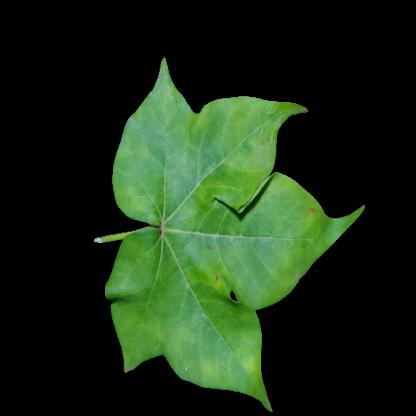curl_stage1: (166, 147, 225, 289), (123, 299, 199, 359), (199, 317, 258, 392), (122, 126, 160, 226), (241, 214, 299, 272), (220, 103, 266, 169), (121, 234, 161, 286), (167, 108, 221, 144), (296, 197, 322, 247)
